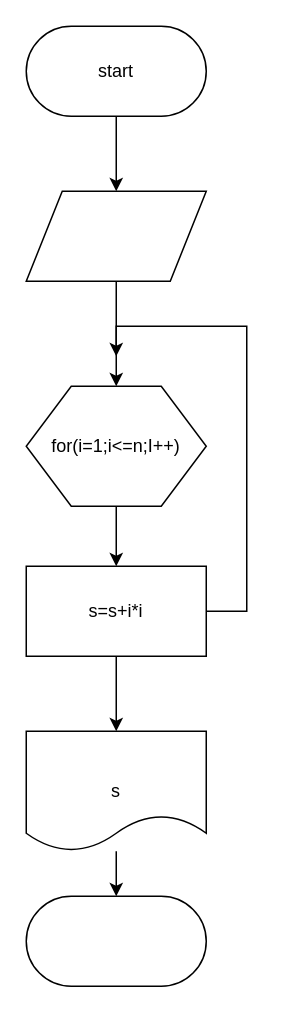
The diagram is 285 pixels wide and 1013 high, and some of its shapes have lost their labels. Each missing label, with the centre of its shape:
"end" belongs at [115,940].
"n=10; s=0;" belongs at [115,235].
